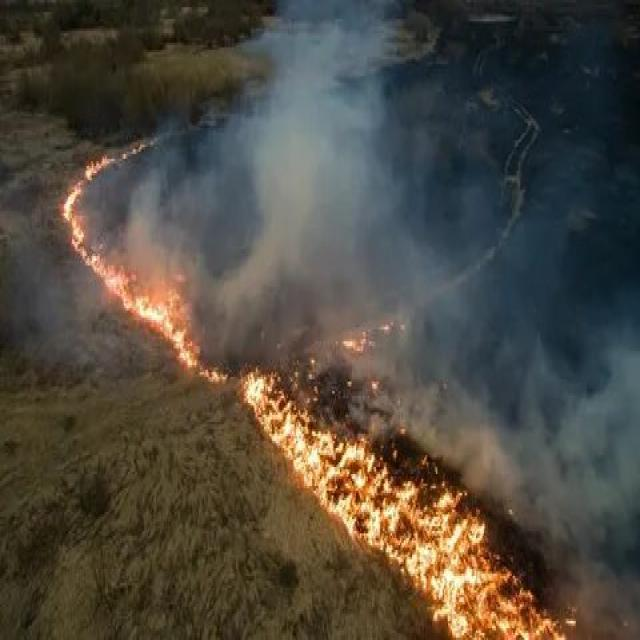Fire: (203, 292, 584, 636), (58, 159, 242, 405)
Smoke: (195, 10, 640, 322), (449, 263, 640, 483)
